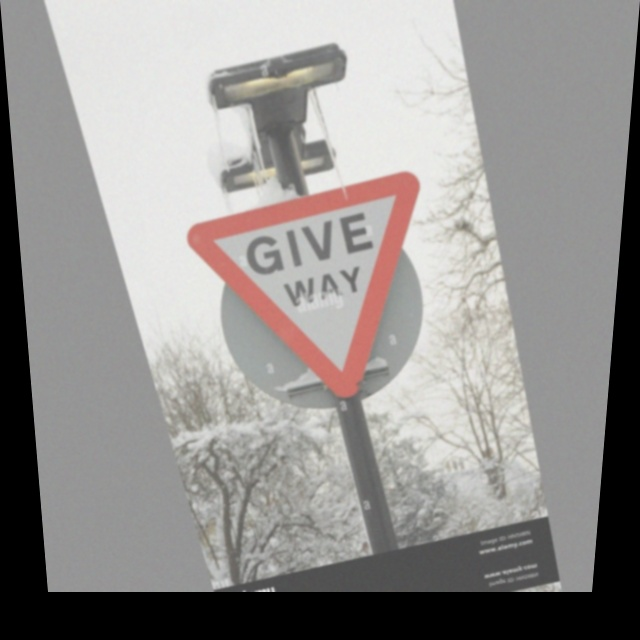Give_Way: (184, 167, 462, 426)
